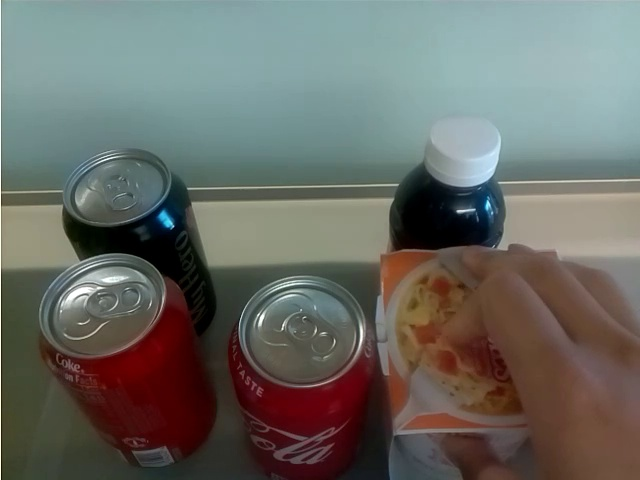cocacola: (30, 255, 216, 468), (227, 272, 377, 476)
cocacola-zero-shadow: (56, 147, 192, 251)
hand: (432, 244, 640, 480)
juice-shadow: (380, 126, 514, 247)
noodles: (375, 257, 527, 437)
